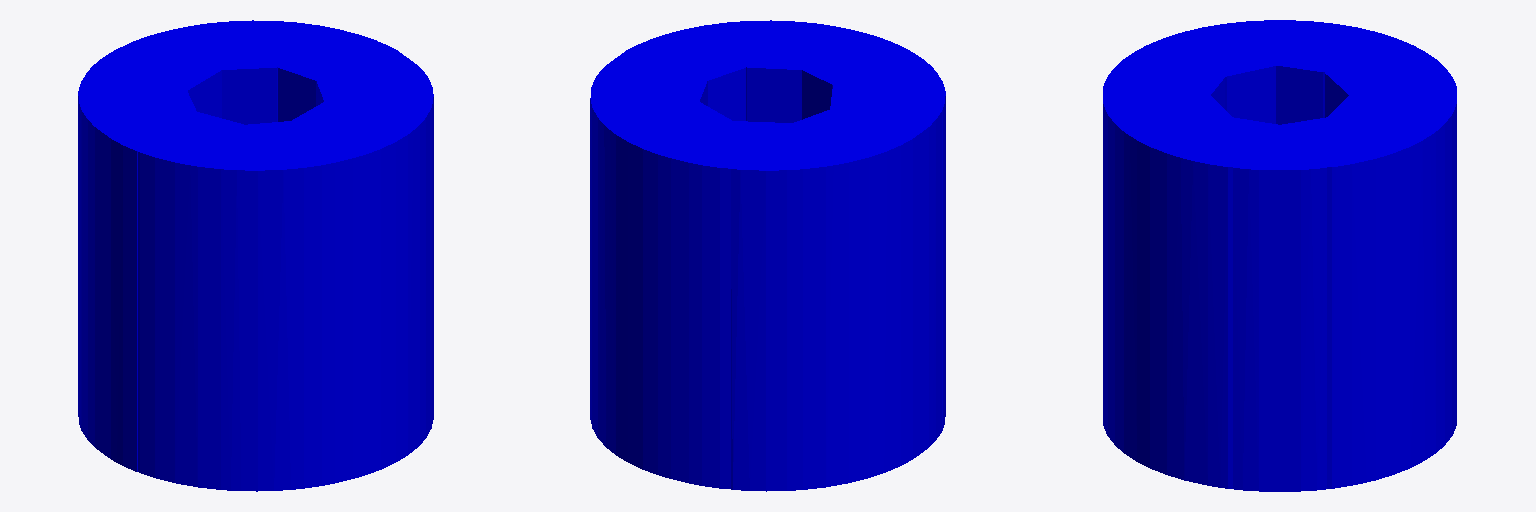
The robot description file, URDF, robot "holder.urdf":
<?xml version="1.0" ?>
<robot name="holder.urdf">
  <link name="baseLink">
    <contact>
      <restitution value="0.0" />
      <lateral_friction value="0.15"/>
      <rolling_friction value="0.0"/>
      <contact_cfm value="0.0"/>
      <contact_erp value="1.0"/>
    </contact>

    <inertial>
      <origin rpy="0 0 0" xyz="0 0 0"/>
      <mass value="0.01"/>
      <inertia ixx="1e-6" ixy="0" ixz="0" iyy="1e-6" iyz="0" izz="1e-6"/>
    </inertial>

    <visual>
      <!-- [0.1360 0.2656 -0.5224] -->
      <origin rpy="0 0 0" xyz="0 0 0.05"/>
      <geometry>
        <mesh filename="bolt/blender_holder_40mm_inner.obj_vhacd.obj" scale="1 1 1"/>
      </geometry>
       <material name="blue">
        <color rgba="0 0 1 0"/>
      </material>
    </visual>

    <collision>
      <origin rpy="0 0 0" xyz="0 0 0.05"/>
      <geometry>
	 	<mesh filename="bolt/blender_holder_40mm_inner.obj_vhacd.obj" scale="1 1 1"/>
      </geometry>
    </collision>
  </link>
</robot>

--- Render facts (derived) ---
3 views of the same robot in one strip: view 1: azimuth 30°, elevation 25°; view 2: azimuth 150°, elevation 25°; view 3: azimuth 270°, elevation 25° (orthographic).
Robot: holder.urdf — 1 links, 0 joints (none); root link baseLink; default pose: every joint at zero.
Visible links, largest first — view 1: baseLink; view 2: baseLink; view 3: baseLink.
Link boxes in pixels (bbox=[...]): baseLink: bbox=[78, 20, 433, 491]; baseLink: bbox=[590, 20, 945, 491]; baseLink: bbox=[1103, 20, 1456, 491].
Size in the robot's own frame: 0.1 by 0.1003 by 0.1003 metres.
1 mesh visuals loaded from 1 distinct referenced files (1 OBJ).